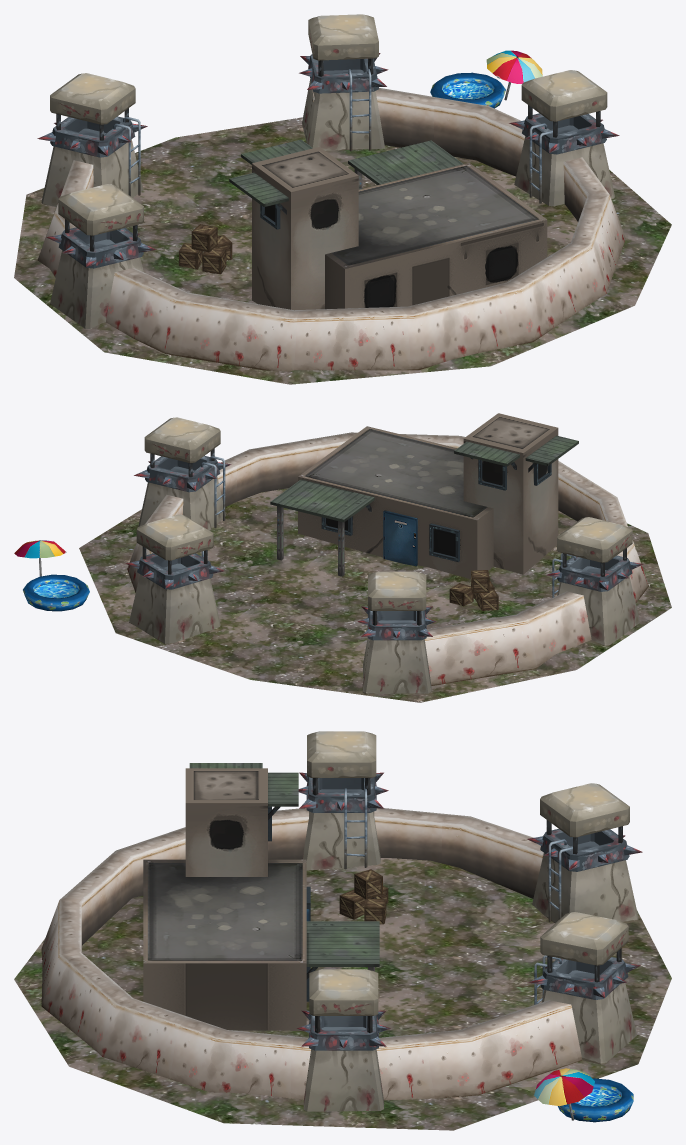
File: env_humancamp_01.FBX
3 views of the same model, one above another, from view 1: azimuth 30°, elevation 25°; view 2: azimuth 150°, elevation 25°; view 3: azimuth 270°, elevation 25° (orthographic). The views are drawn at different scales.
Parts seen in each view (by area): view 1: env_humancamp_01; view 2: env_humancamp_01; view 3: env_humancamp_01.
Boxes of the visible parts, <box> form: env_humancamp_01: <box>14,14,671,384</box>; env_humancamp_01: <box>14,413,671,702</box>; env_humancamp_01: <box>14,731,671,1130</box>.
Size of the model in its own units: 17.41 by 4.06 by 16.1.
5 materials, 5 textured.
